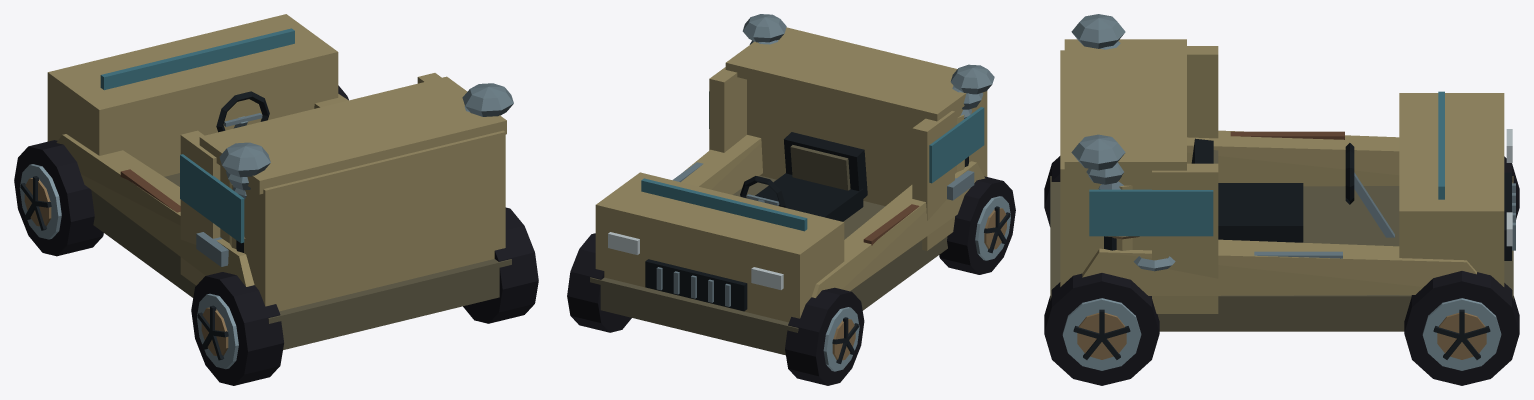
Rendered from kart.glb.
3 renders of one model, left to right at view 1: azimuth 30°, elevation 25°; view 2: azimuth 150°, elevation 25°; view 3: azimuth 270°, elevation 25°, orthographic. The views are drawn at different scales.
Parts seen in each view (by area): view 1: identity-van-van-utility-body, wheel-rear-left, wheel-front-left, wheel-rear-right, identity-van-motif-smoke, identity-van-motif-tools, identity-van-driver-cockpit; view 2: identity-van-van-utility-body, identity-van-driver-cockpit, wheel-front-left, wheel-rear-left, wheel-front-right, identity-van-motif-smoke, identity-van-motif-tools; view 3: identity-van-van-utility-body, wheel-front-right, wheel-rear-right, identity-van-driver-cockpit, identity-van-motif-smoke, identity-van-motif-tools, wheel-rear-left.
Part boxes in pixels (x1,y1,x2,y2): identity-van-van-utility-body: (47, 14, 511, 349); wheel-rear-left: (191, 272, 283, 385); wheel-front-left: (14, 140, 103, 256); wheel-rear-right: (463, 207, 538, 323); identity-van-motif-smoke: (219, 83, 513, 252); identity-van-motif-tools: (120, 169, 228, 266); identity-van-driver-cockpit: (216, 91, 269, 132); identity-van-van-utility-body: (590, 27, 987, 355); identity-van-driver-cockpit: (740, 132, 867, 221); wheel-front-left: (785, 287, 864, 385); wheel-rear-left: (939, 176, 1015, 274); wheel-front-right: (567, 233, 631, 332); identity-van-motif-smoke: (742, 14, 994, 166); identity-van-motif-tools: (672, 162, 974, 245); identity-van-van-utility-body: (1050, 39, 1515, 331); wheel-front-right: (1404, 271, 1519, 385); wheel-rear-right: (1044, 273, 1159, 385); identity-van-driver-cockpit: (1191, 138, 1394, 242); identity-van-motif-smoke: (1071, 14, 1125, 250); identity-van-motif-tools: (1133, 131, 1344, 271); wheel-rear-left: (1044, 156, 1060, 226).
Size of the model in its own units: 2.13 by 1.53 by 2.8.
